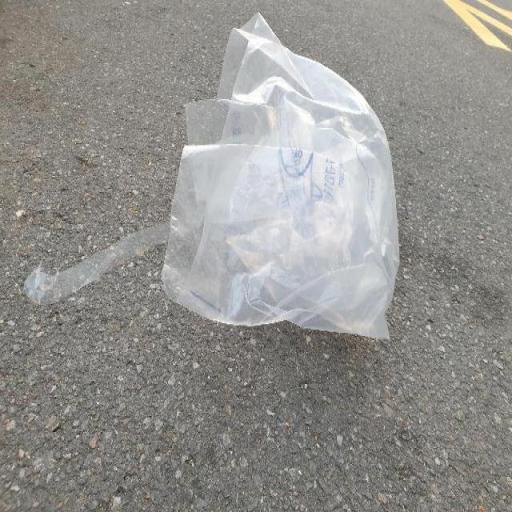plastic-bag: (20, 13, 402, 344)
